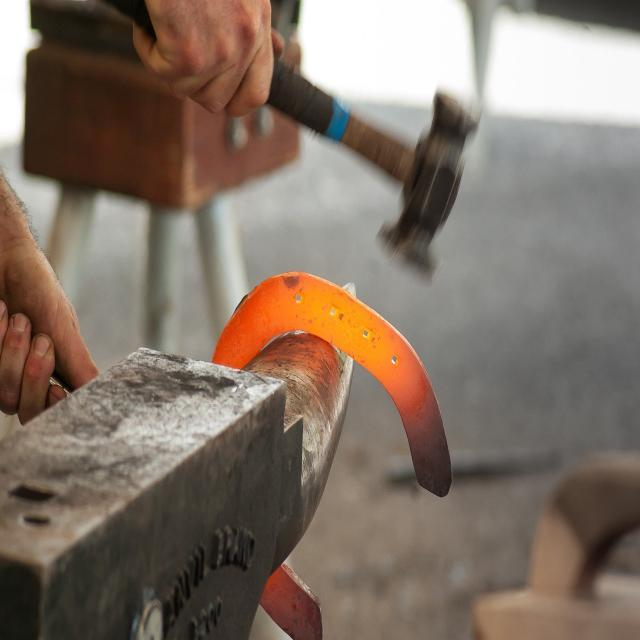hammer: (95, 0, 490, 296)
